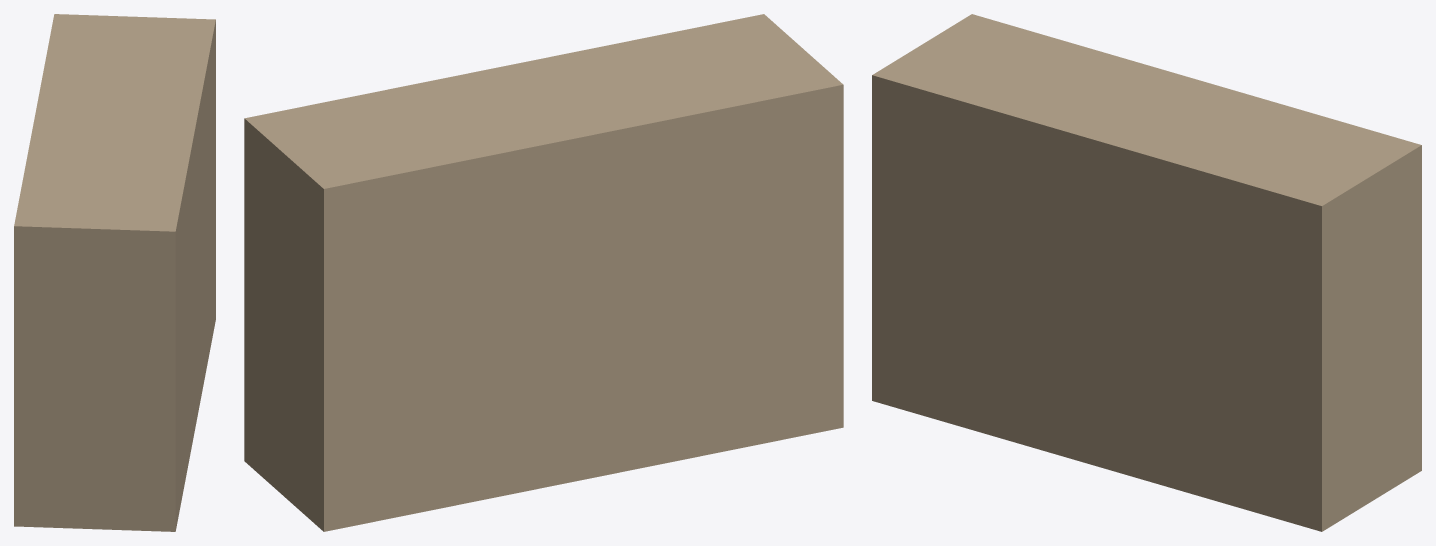
The model's file is bld_100469537.dae.
3 views of the same model, side by side, from view 1: azimuth 30°, elevation 25°; view 2: azimuth 150°, elevation 25°; view 3: azimuth 270°, elevation 25° (orthographic). The views are drawn at different scales.
Parts seen in each view (by area): view 1: bld_100469537; view 2: bld_100469537; view 3: bld_100469537.
Boxes of the visible parts, <box> form: bld_100469537: <box>14,14,215,531</box>; bld_100469537: <box>244,14,843,531</box>; bld_100469537: <box>872,14,1421,531</box>.
Bounding box in the file's own units: 10.13 × 12.24 × 8.
